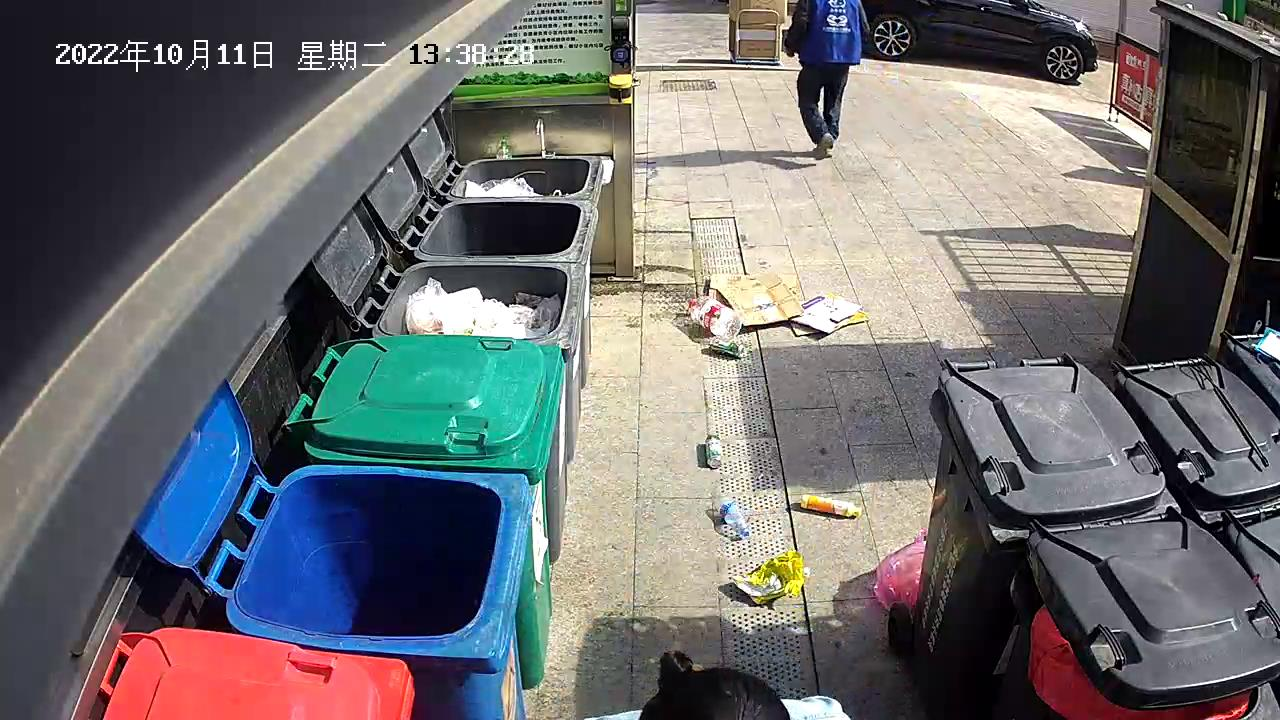garbage: (729, 545, 813, 608)
garbage-bag: (865, 523, 944, 613)
lvzhipin: (706, 335, 750, 363), (700, 426, 725, 472)
suliaozhipin: (680, 293, 748, 345), (795, 490, 871, 526), (709, 489, 754, 545)
worker: (779, 1, 875, 164)
zhizhipin: (702, 267, 808, 329), (786, 288, 876, 340)
